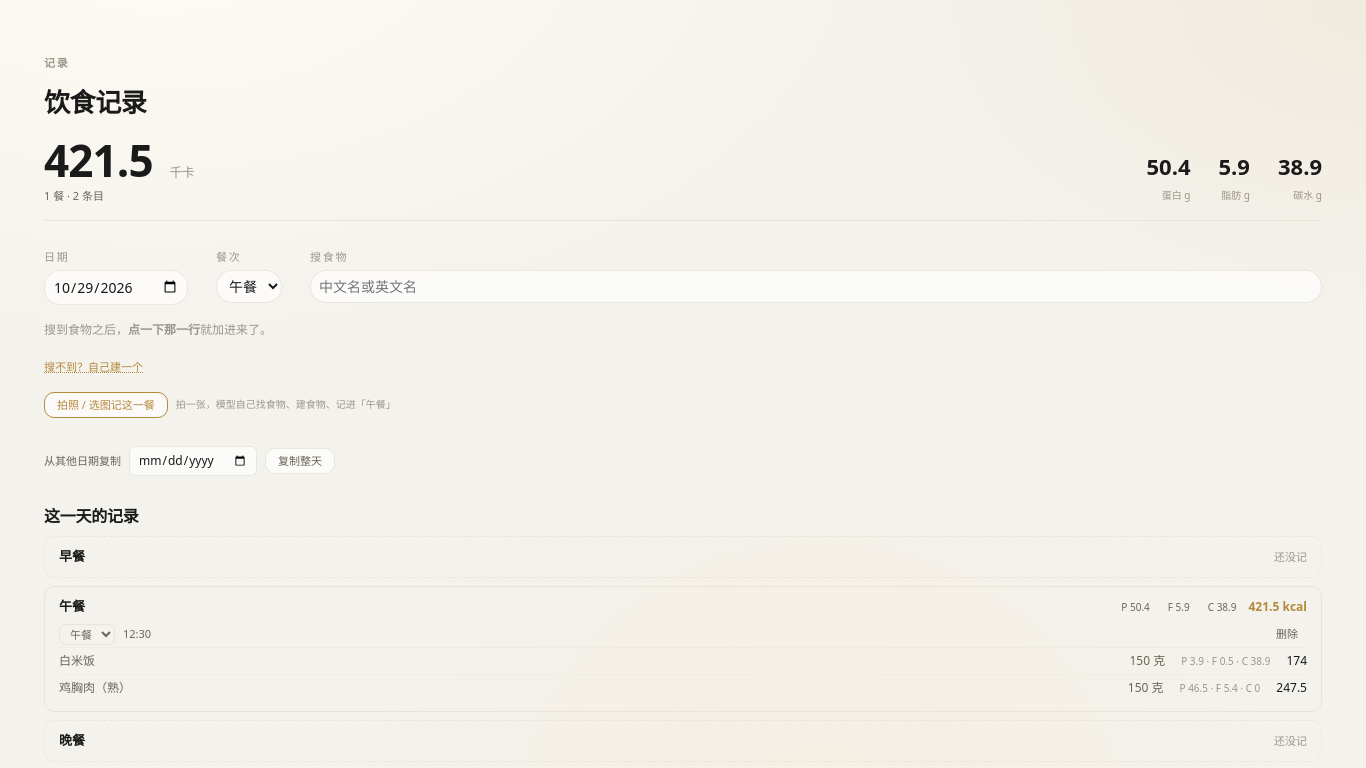
Test: 饮食记录页 · 搜食物与加条目 › searching_debounces_and_lists_matches_with_their_per100
Type "豆" into the search field labelled "搜食物" at coordinates (816, 286), box [310,270,1322,302]
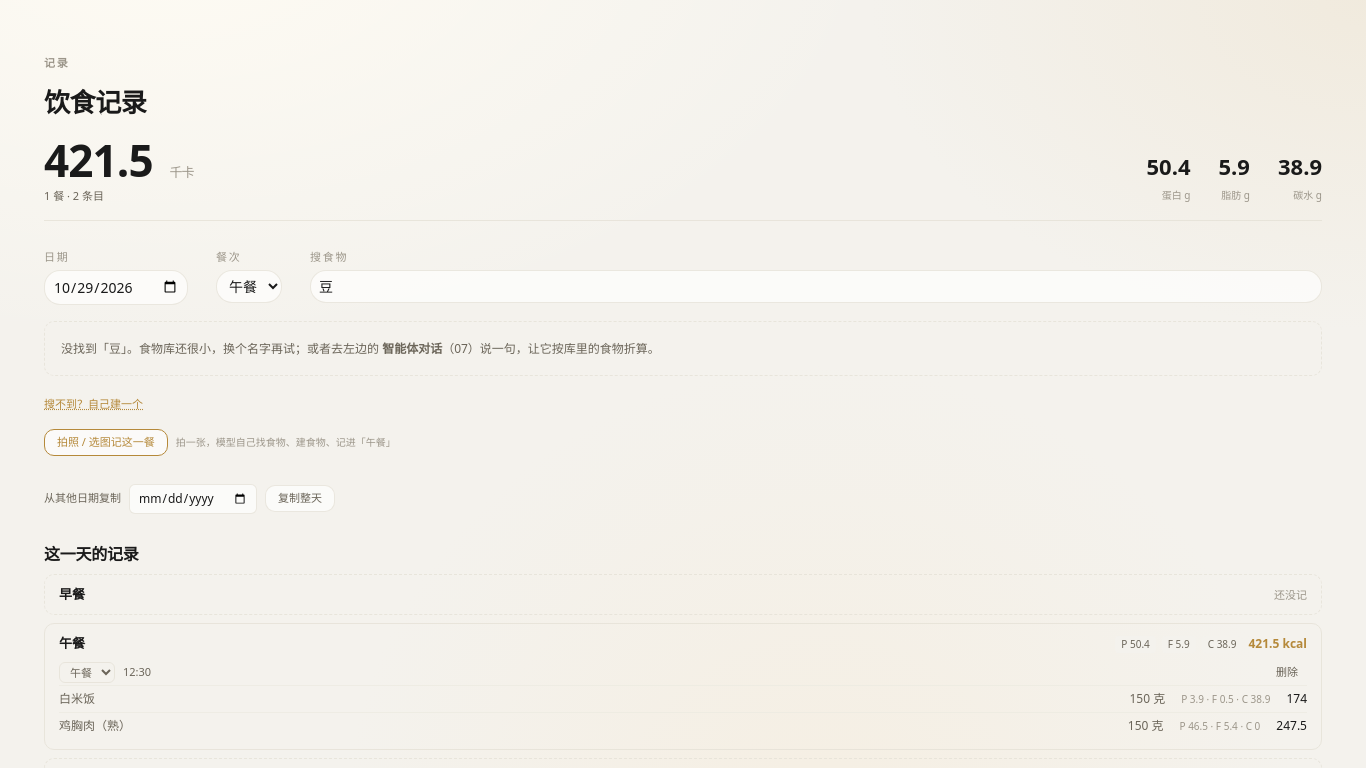
Replace the text in the search field labelled "搜食物" with "豆腐" at coordinates (816, 286), box [310,270,1322,302]
Wait 300 ms
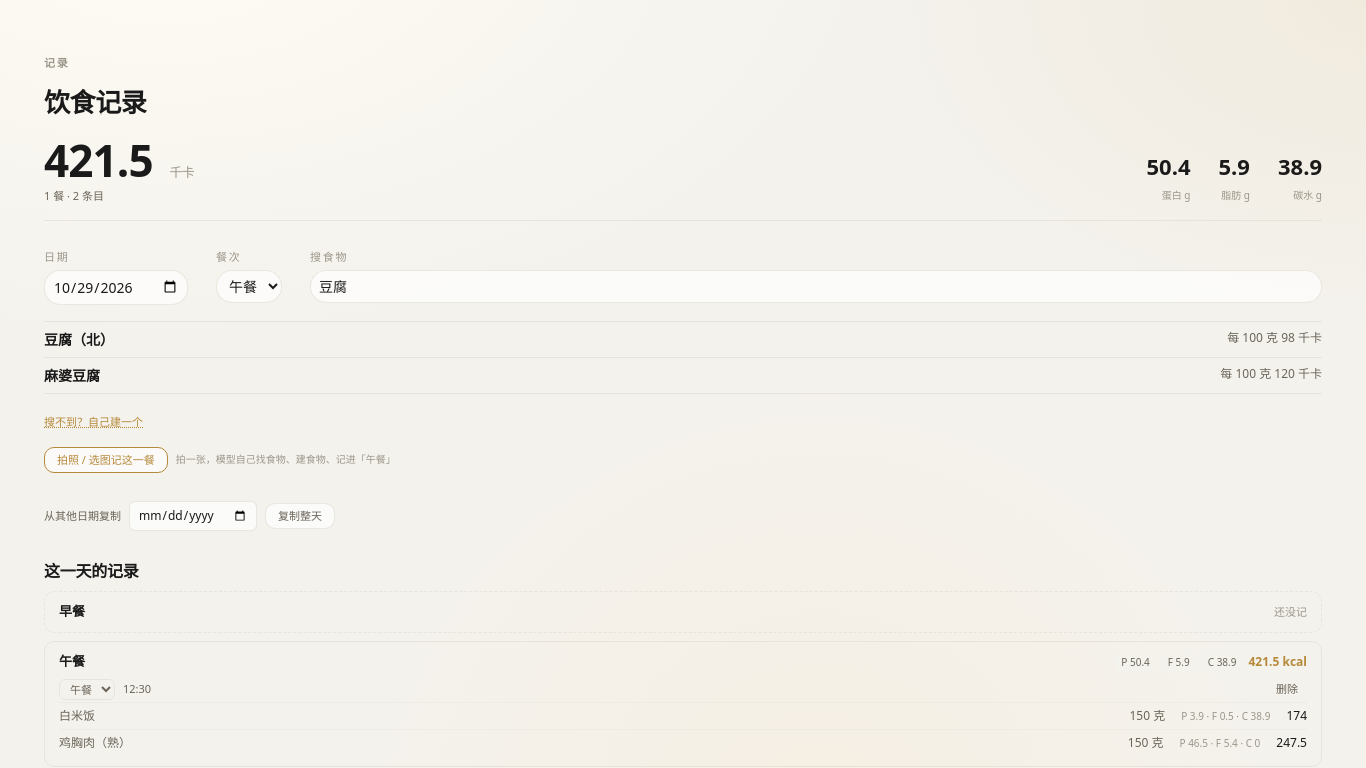
Expected: the number of buttons with class "food" is 2, [44,322,1322,358]; [44,358,1322,394]
Expected: the button with class "food" shows "98", [44,322,1322,358]
